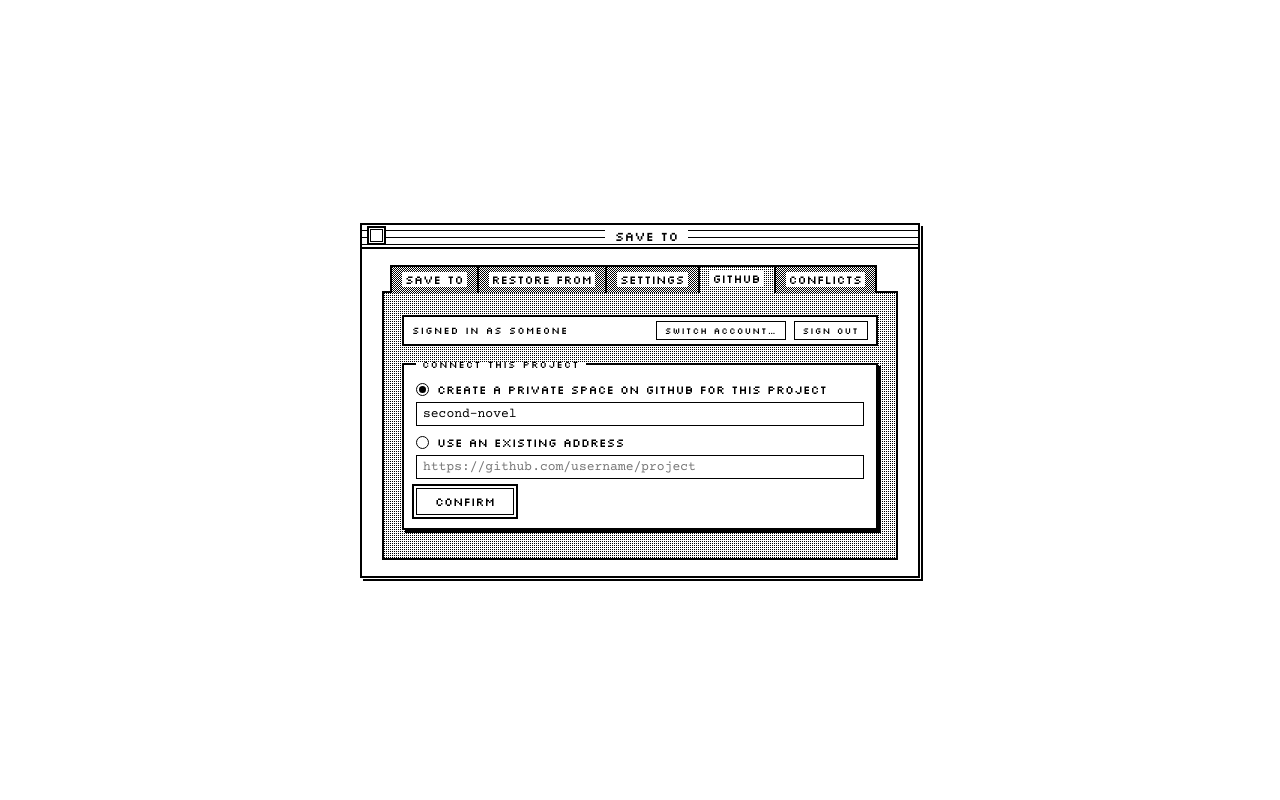
Test case: the GitHub tab › says why GitHub cannot be added when three places are kept already
Expected: the text "CONNECT THIS PROJECT" is shown, left=416, top=358, right=586, bottom=370
Step 1. Click the button "Confirm" → (465, 501), box left=416, top=488, right=514, bottom=514
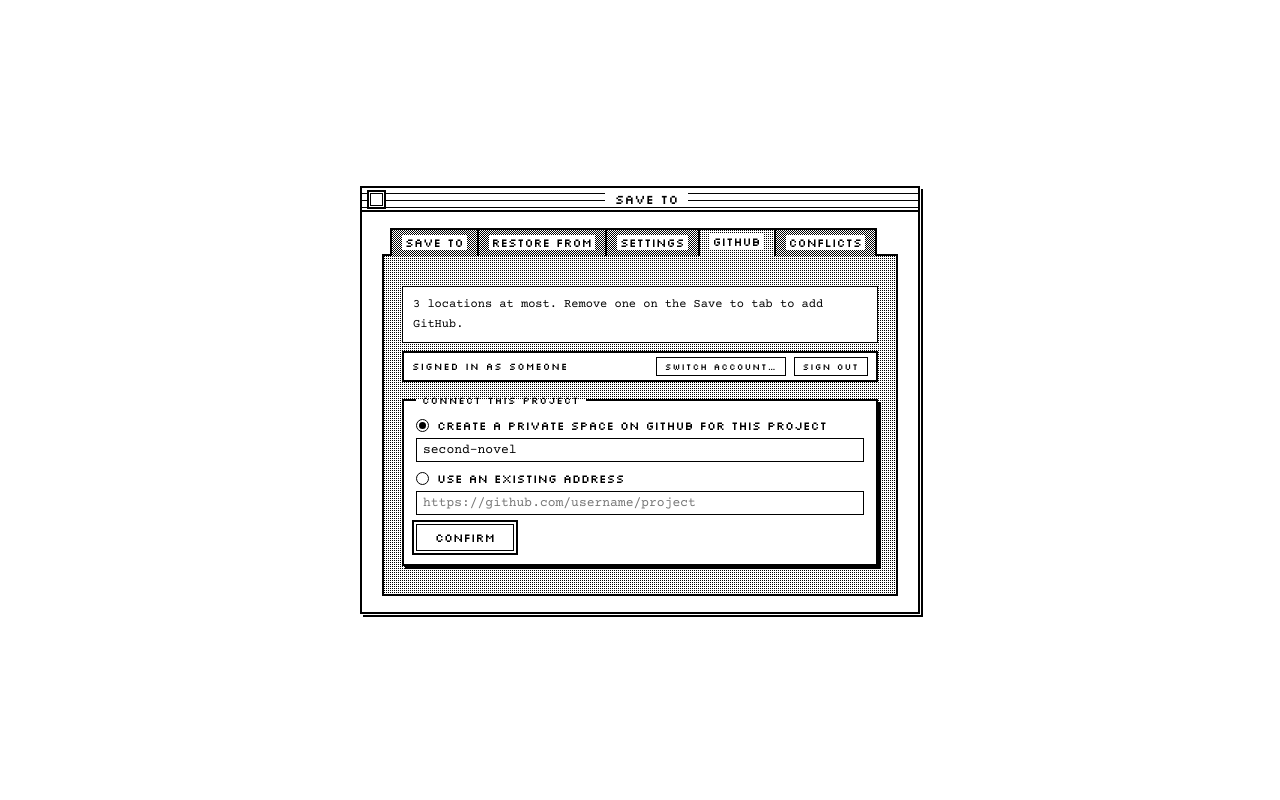
Now the message shows "3 locations at most", box left=413, top=298, right=823, bottom=330
